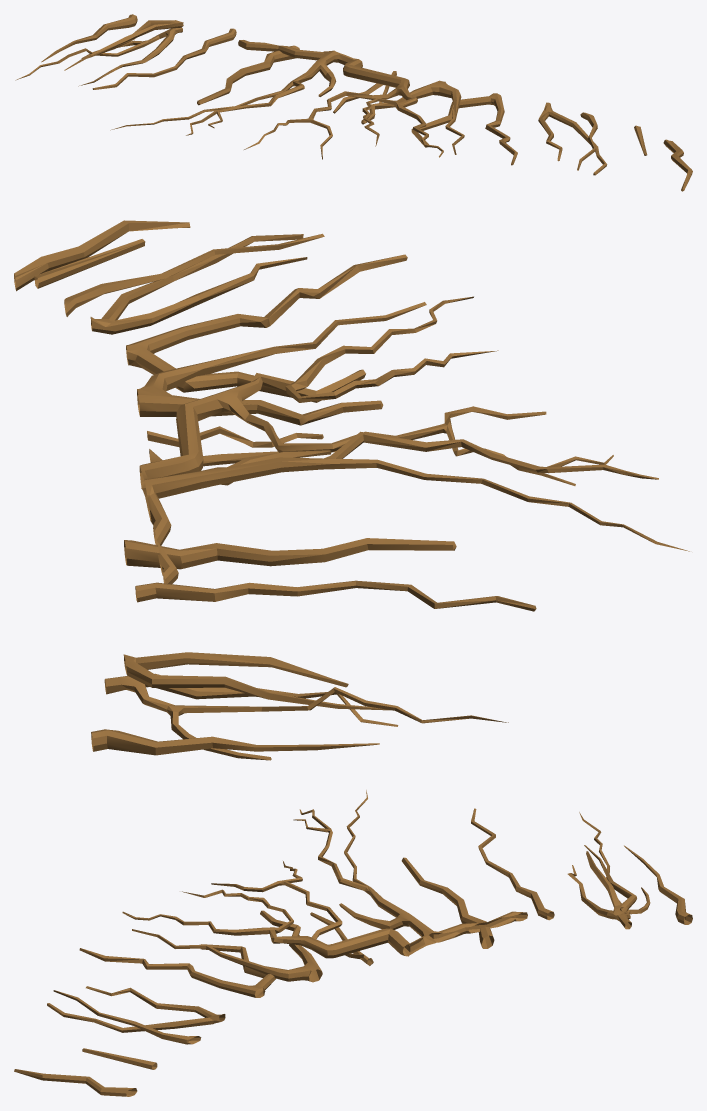
The model's file is ea_nature_tree_root_1b_pre_lev1.glb.
3 renders of one model, top to bottom at view 1: azimuth 30°, elevation 25°; view 2: azimuth 150°, elevation 25°; view 3: azimuth 270°, elevation 25°, orthographic. The views are drawn at different scales.
Visible parts, largest first — view 1: ea_nature_tree_root_1b_pre_lev1; view 2: ea_nature_tree_root_1b_pre_lev1; view 3: ea_nature_tree_root_1b_pre_lev1.
Boxes of the visible parts, bbox=[...] form: ea_nature_tree_root_1b_pre_lev1: bbox=[15, 14, 692, 191]; ea_nature_tree_root_1b_pre_lev1: bbox=[14, 220, 689, 760]; ea_nature_tree_root_1b_pre_lev1: bbox=[14, 790, 692, 1096].
Bounding box in the file's own units: 6.49 × 0.8371 × 7.4.
Materials: 1 (1 with a texture image).
